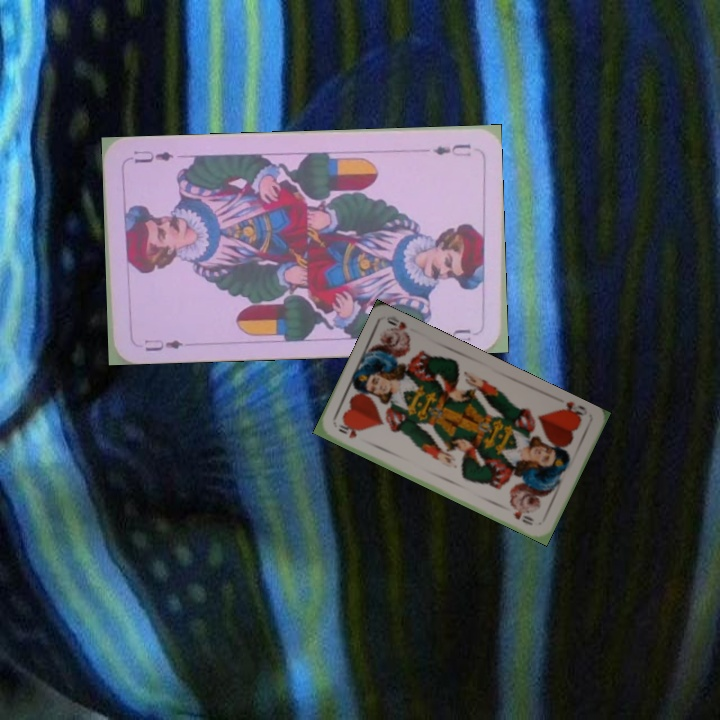EU: (429, 140, 474, 160), (140, 335, 186, 354)
HO: (555, 397, 590, 423), (334, 420, 359, 441)
